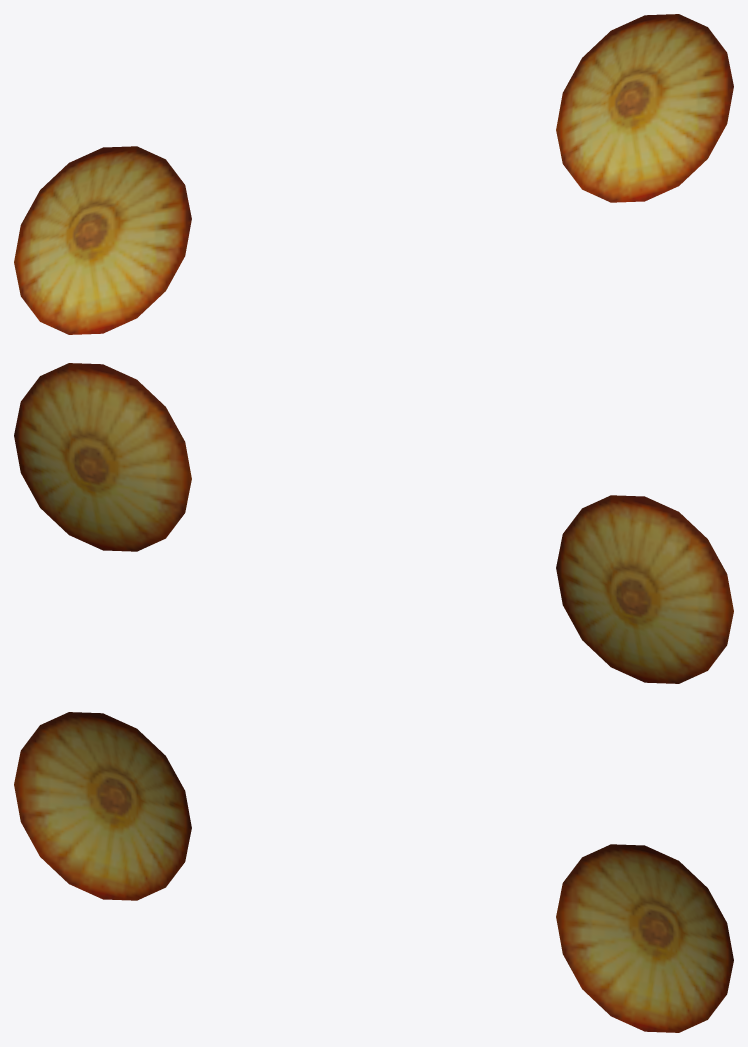
File: kse_firespray_engine_s02_on_l0.fbx
The picture shows the model from 3 angles, top to bottom: view 1: azimuth 30°, elevation 25°; view 2: azimuth 150°, elevation 25°; view 3: azimuth 330°, elevation 25°; orthographic projection.
Visible parts, largest first — view 1: mesh_node; view 2: mesh_node; view 3: mesh_node.
Part boxes in pixels (x1,y1,x2,y2): mesh_node: (14, 14, 733, 334); mesh_node: (14, 363, 733, 683); mesh_node: (14, 712, 733, 1032).
Bounding box in the file's own units: 5.59 × 1.38 × 0.2004.
1 material, 1 textured.
